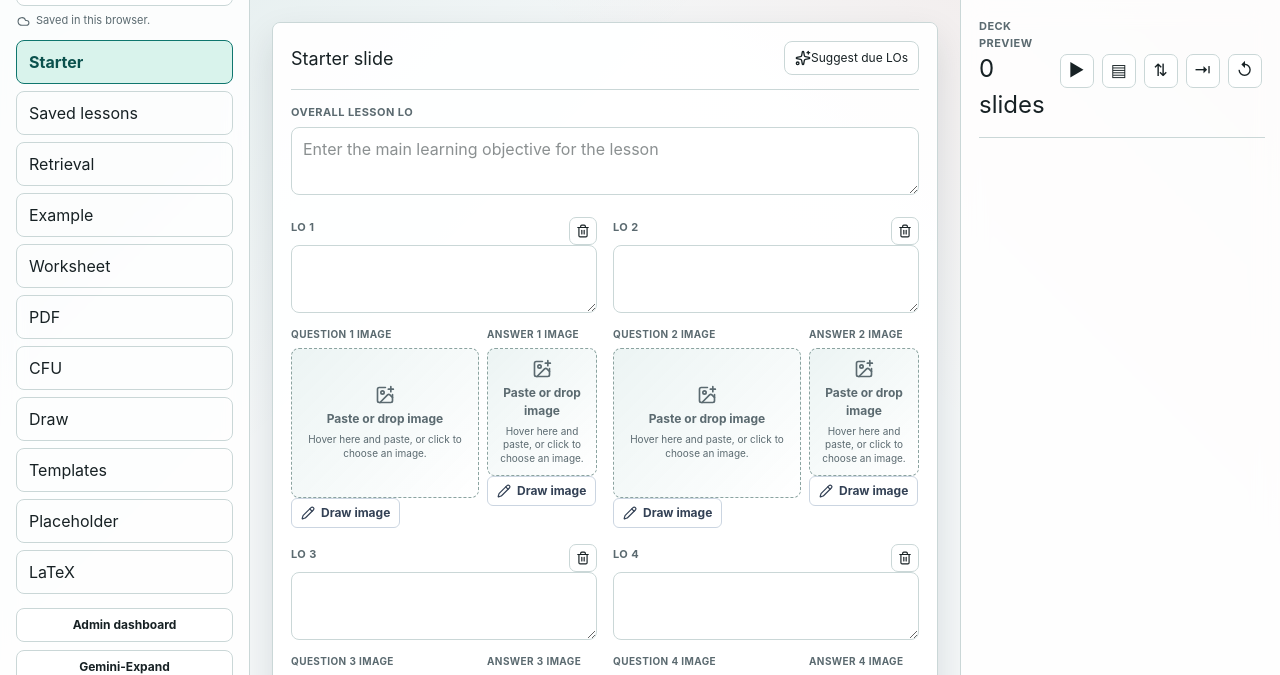
BuilderShell legacy UI parity › keeps placeholder authoring in the central tool panel
This screenshot has width=1280, height=675.
(page scrolled)
Step 1. Click the button "Placeholder" → (124, 521), box [16,499,233,543]
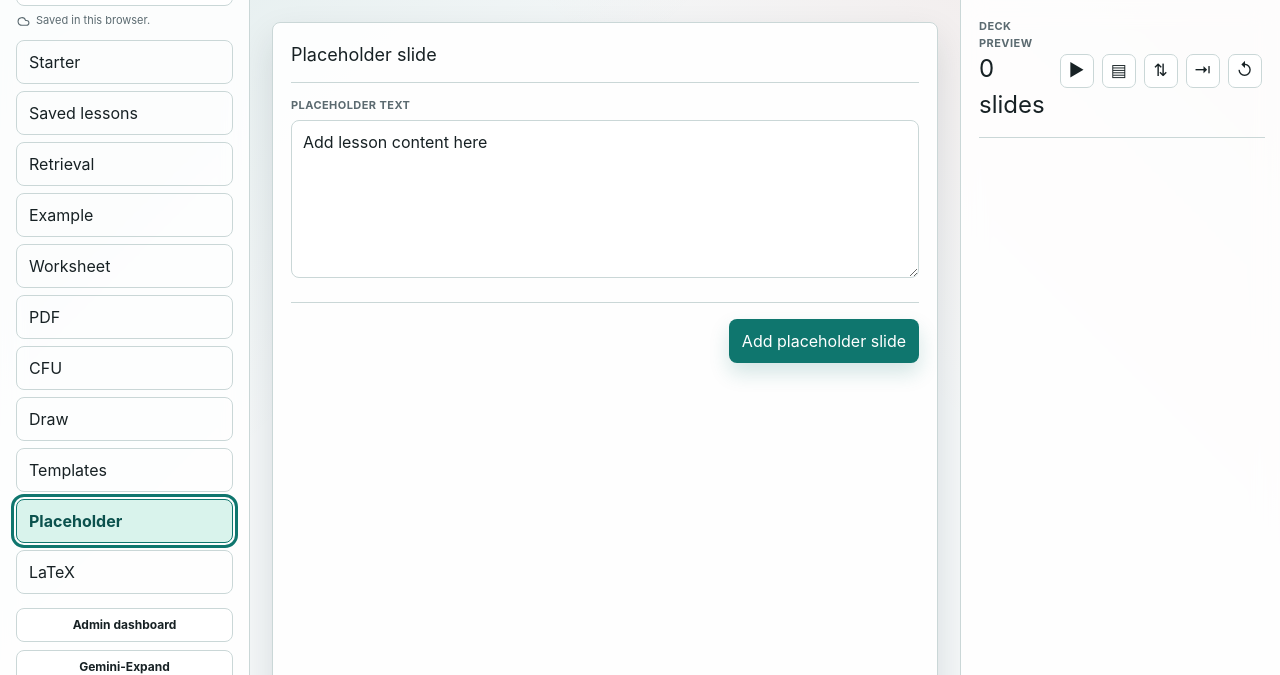
Step 2. Replace the text in the text box labelled "Placeholder text" with "Worked example" → (605, 199), box [291,120,919,278]
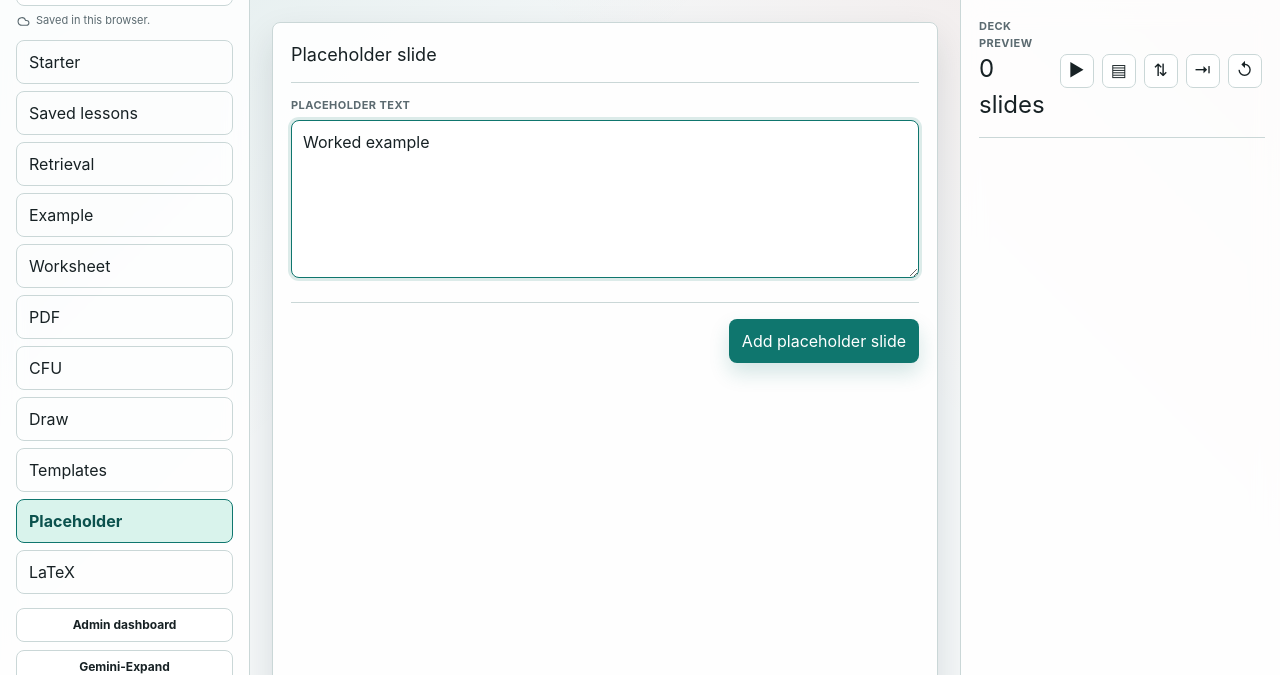
Step 3. Click the button "Add placeholder slide" → (824, 341), box [729,319,919,363]
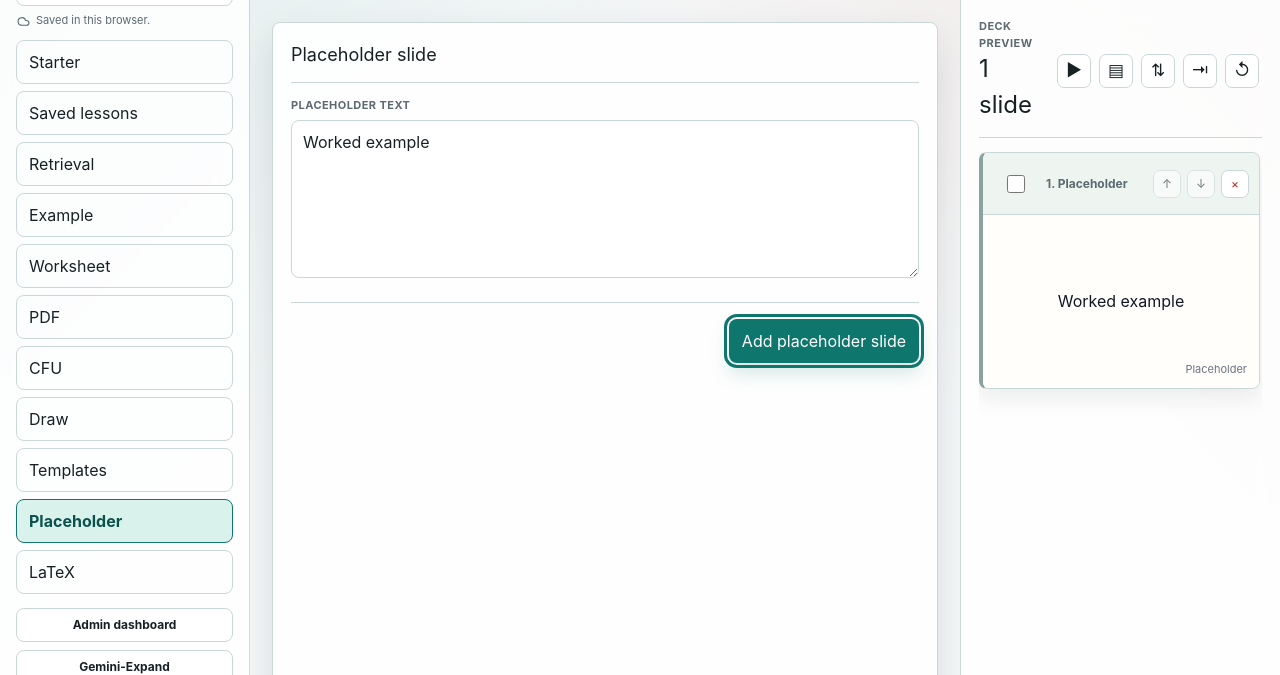
Check: the heading "1 slide" is shown, box [979,54,1032,119]
